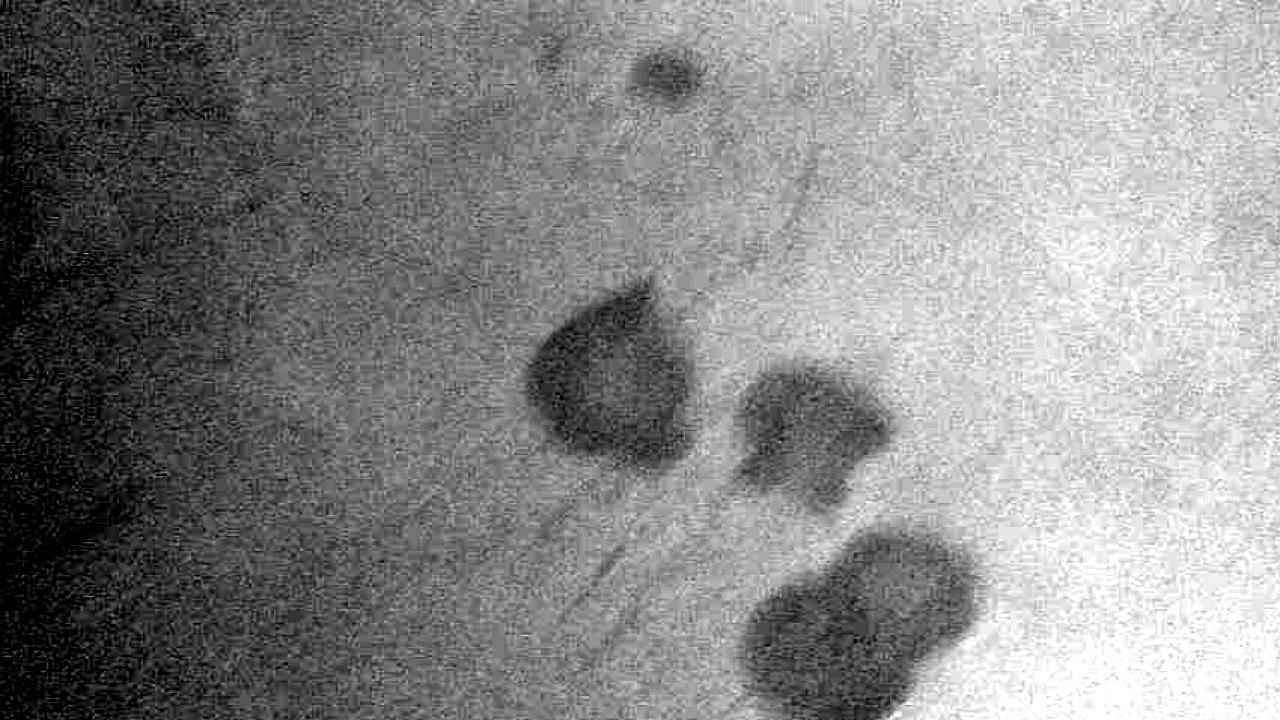drinks Stains: (502, 265, 1008, 720)
